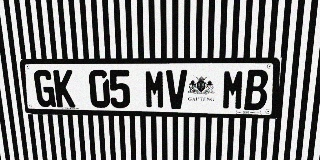0: (88, 70, 110, 108)
5: (109, 70, 131, 108)
B: (244, 70, 269, 110)
G: (33, 70, 56, 107)
K: (53, 70, 75, 107)
M: (222, 70, 245, 110), (144, 70, 165, 109)
V: (166, 70, 187, 109)
